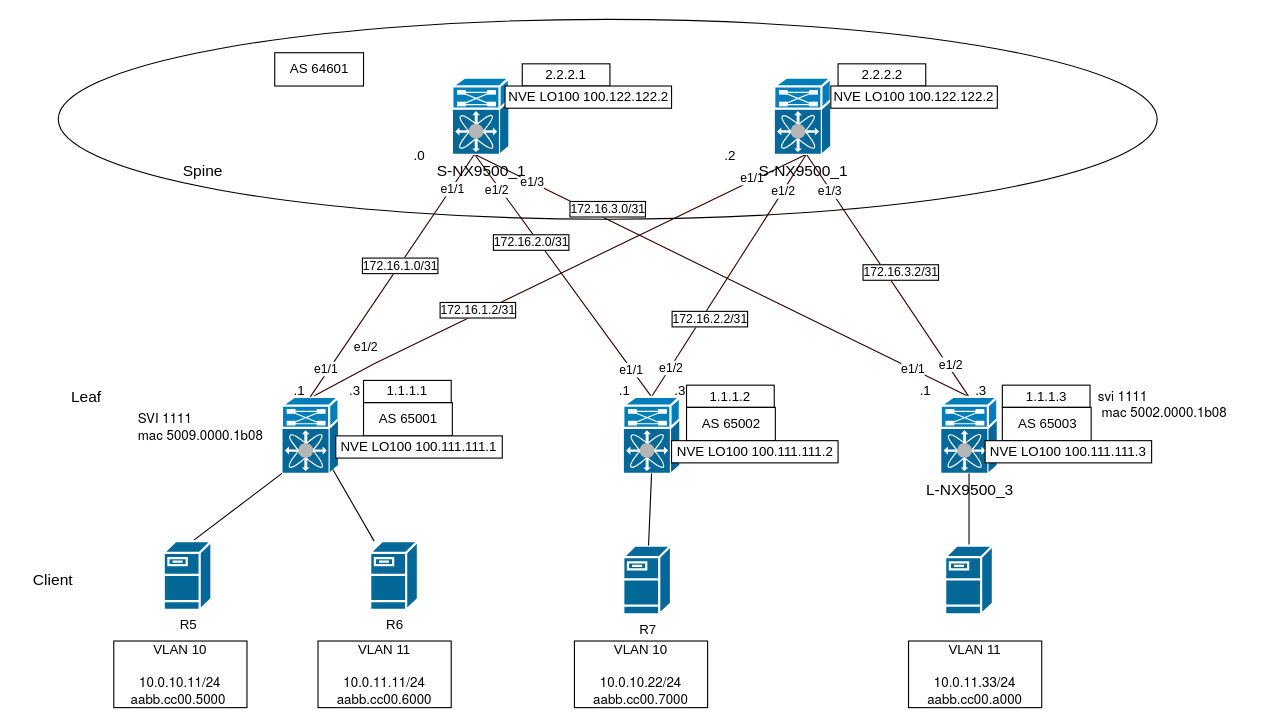
This 1281x727 diagram has some shape labels left out. The centre of each missing label's shape, as x and y in pixels:
L-NX9500_1: (x=309, y=434)
L-NX9500_2: (x=651, y=434)
R10: (x=968, y=579)
